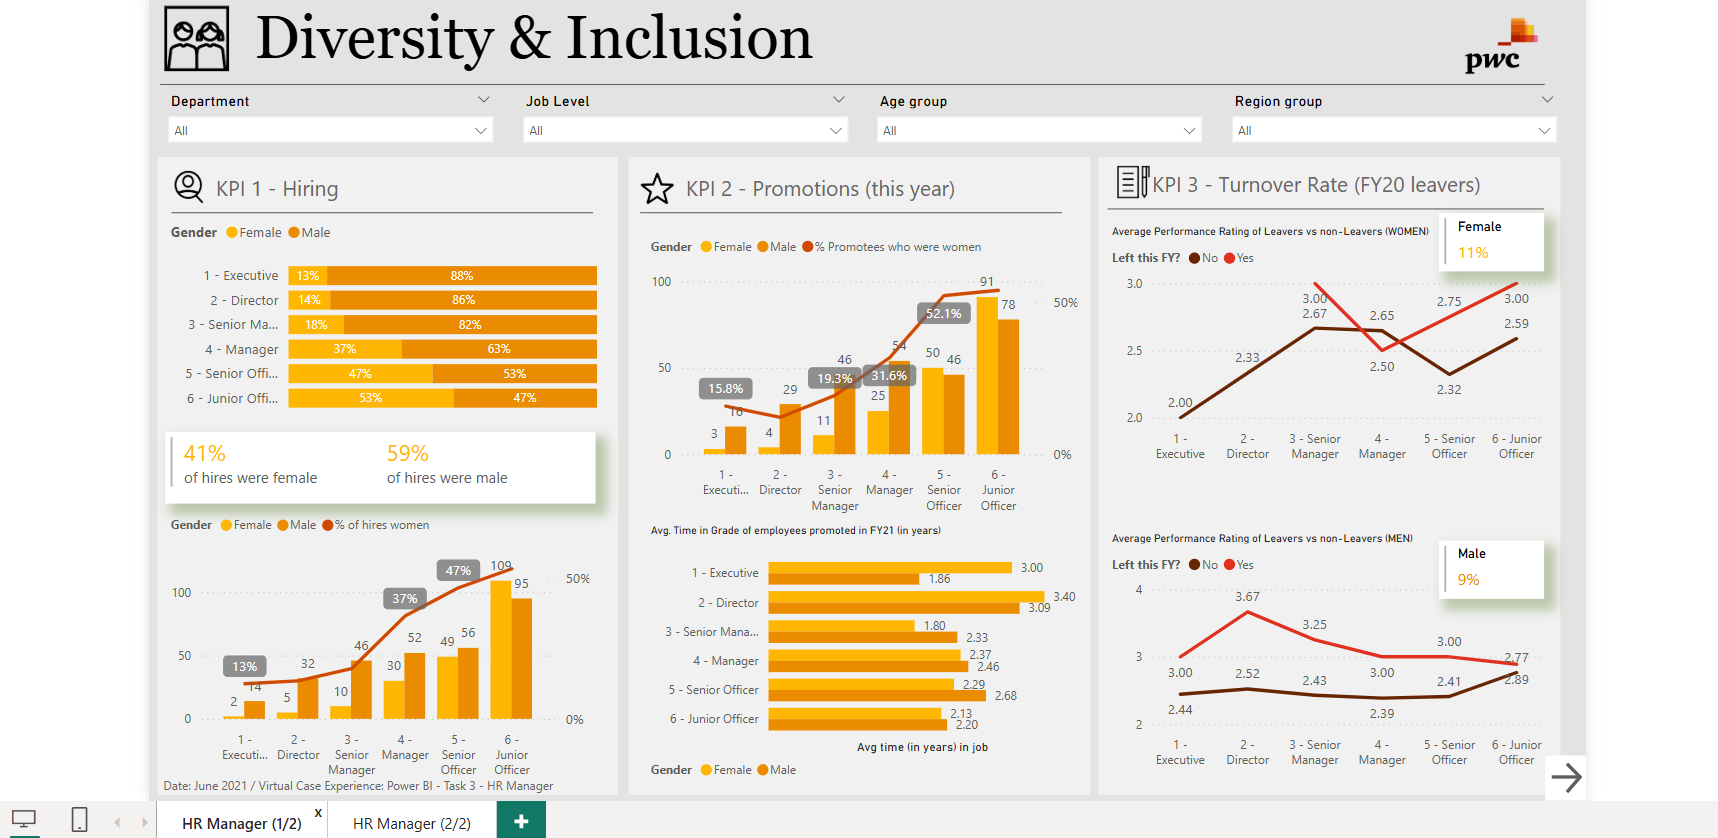

The dashboard page shown, as its layout file describes it:
{"tool":"powerbi","page":{"name":"HR Manager (1/2)","canvas":[1280,720],"ordinal":0},"visuals":[{"type":"textbox","box":[88.7,4.8,1172.9,75.2],"z":0},{"type":"basicShape","box":[0,60.8,1253,40.5],"z":1000},{"type":"basicShape","box":[3.9,139.9,418.6,579.7],"z":2000},{"type":"hundredPercentStackedBarChart","fields":{"Series":["HR Manager.Gender"],"Y":["CountNonNull(HR Manager.Employee ID)"],"Category":["HR Manager.Job Level after FY20 promotions"]},"box":[14.5,193.9,389.7,190],"z":3000},{"type":"multiRowCard","fields":{"Values":["HR Manager.% of hires women","HR Manager.% of hires men"]},"box":[14.5,390.7,382.9,63.7],"z":4000},{"type":"lineClusteredColumnComboChart","fields":{"Category":["HR Manager.Job Level after FY20 promotions"],"Series":["HR Manager.Gender"],"Y":["CountNonNull(HR Manager.Employee ID)"],"Y2":["HR Manager.% of hires women"]},"box":[14.5,455.3,382.9,250.8],"z":5000},{"type":"textbox","box":[55,155.3,315.4,35.7],"z":6000},{"type":"basicShape","box":[9.6,175.6,395.5,39.5],"z":7000},{"type":"basicShape","box":[422.5,139.9,419.6,579.7],"z":8000},{"type":"textbox","box":[473,155.7,315.4,35.7],"z":9000},{"type":"basicShape","box":[427.7,175.9,395.5,39.5],"z":10000},{"type":"image","box":[433.1,153.4,39.5,40.5],"z":11000},{"type":"lineClusteredColumnComboChart","fields":{"Y":["CountNonNull(HR Manager.Employee ID)"],"Series":["HR Manager.Gender"],"Y2":["HR Manager.% Promotees who were women"],"Category":["HR Manager.Job Level after FY21 promotions"]},"box":[441.8,207.4,389.7,263.3],"z":12000},{"type":"image","box":[1129,0,151,94.5],"z":13000},{"type":"image","box":[8.7,0,67.5,81],"z":14000},{"type":"image","box":[15.4,153.4,39.5,38.6],"z":15000},{"type":"basicShape","box":[842.1,139.9,419.6,579.7],"z":16000},{"type":"basicShape","box":[843.4,173,408,39.5],"z":17000},{"type":"textbox","box":[888.5,152.5,315.4,35.7],"z":18000},{"type":"clusteredBarChart","title":"Avg. Time in Grade of employees promoted in FY21 (in years)","fields":{"Category":["HR Manager.Job Level after FY20 promotions"],"Series":["HR Manager.Gender"],"Y":["Sum(HR Manager.Time in Job Level @01.07.2020)"]},"box":[441.8,473.6,389.7,236.3],"z":19000},{"type":"lineChart","title":"Average Performance Rating of Leavers vs non-Leavers (WOMEN)","fields":{"Category":["HR Manager.Job Level after FY20 promotions"],"Y":["Sum(HR Manager.FY19 Performance Rating)"],"Series":["HR Manager.FY20 leaver?"]},"box":[852.7,207.4,398.4,218],"z":20000},{"type":"lineChart","title":"Average Performance Rating of Leavers vs non-Leavers (MEN)","fields":{"Category":["HR Manager.Job Level after FY20 promotions"],"Y":["Sum(HR Manager.FY19 Performance Rating)"],"Series":["HR Manager.FY20 leaver?"]},"box":[852.7,479.4,398.4,218],"z":21000},{"type":"multiRowCard","fields":{"Values":["HR Manager.Gender","HR Manager.% Turnover"]},"box":[1148.8,195.8,93.6,52.1],"z":22000},{"type":"multiRowCard","fields":{"Values":["HR Manager.Gender","HR Manager.% Turnover"]},"box":[1148.8,487.1,93.6,52.1],"z":23000},{"type":"slicer","fields":{"Values":["HR Manager.Last Department in FY20"]},"box":[6.8,83.9,310,55.9],"z":24000},{"type":"slicer","fields":{"Values":["HR Manager.Job Level after FY20 promotions"]},"box":[322.5,83.9,310,55.9],"z":25000},{"type":"slicer","fields":{"Values":["HR Manager.Age group"]},"box":[638.2,83.9,310,55.9],"z":26000},{"type":"slicer","fields":{"Values":["HR Manager.Broad region group: nationality 1"]},"box":[954,83.9,310,55.9],"z":27000},{"type":"image","box":[852.7,149.5,47.3,38.6],"z":28000},{"type":"actionButton","box":[1243.1,679.1,36.9,40.2],"z":29000},{"type":"textbox","box":[7.7,689.7,397.4,29.9],"z":30000}]}

Visuals, with their boxes on the page's 1280x720 design canvas (x1, y1, x2, y2). These are canvas units, not pixel positions in the 1718x838 screenshot, which may show the page scaled, cropped or inside an application window:
textbox: 89:5:1262:80
basicShape: 0:61:1253:101
basicShape: 4:140:422:720
hundredPercentStackedBarChart - HR Manager.Gender x CountNonNull(HR Manager.Employee ID): 14:194:404:384
multiRowCard - HR Manager.% of hires women x HR Manager.% of hires men: 14:391:397:454
lineClusteredColumnComboChart - HR Manager.Job Level after FY20 promotions x HR Manager.Gender: 14:455:397:706
textbox: 55:155:370:191
basicShape: 10:176:405:215
basicShape: 422:140:842:720
textbox: 473:156:788:191
basicShape: 428:176:823:215
image: 433:153:473:194
lineClusteredColumnComboChart - CountNonNull(HR Manager.Employee ID) x HR Manager.Gender: 442:207:832:471
image: 1129:0:1280:94
image: 9:0:76:81
image: 15:153:55:192
basicShape: 842:140:1262:720
basicShape: 843:173:1251:212
textbox: 888:152:1204:188
"Avg. Time in Grade of employees promoted in FY21 (in years)" clusteredBarChart: 442:474:832:710
"Average Performance Rating of Leavers vs non-Leavers (WOMEN)" lineChart: 853:207:1251:425
"Average Performance Rating of Leavers vs non-Leavers (MEN)" lineChart: 853:479:1251:697
multiRowCard - HR Manager.Gender x HR Manager.% Turnover: 1149:196:1242:248
multiRowCard - HR Manager.Gender x HR Manager.% Turnover: 1149:487:1242:539
slicer - HR Manager.Last Department in FY20: 7:84:317:140
slicer - HR Manager.Job Level after FY20 promotions: 322:84:632:140
slicer - HR Manager.Age group: 638:84:948:140
slicer - HR Manager.Broad region group: nationality 1: 954:84:1264:140
image: 853:150:900:188
actionButton: 1243:679:1280:719
textbox: 8:690:405:720
